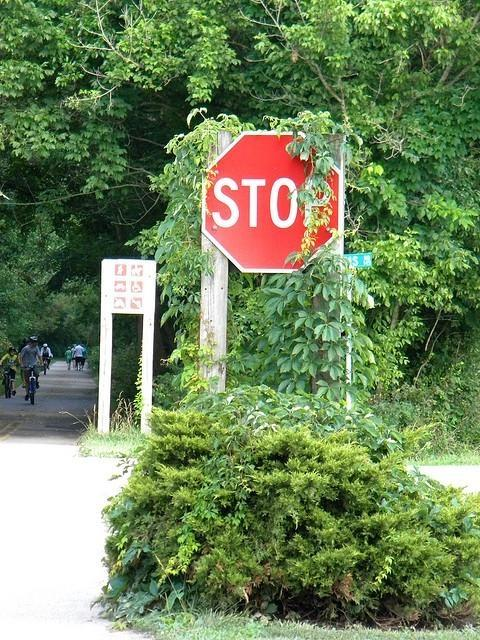bicycle: (21, 364, 44, 404), (0, 361, 16, 401), (41, 356, 50, 376), (77, 362, 82, 372)
